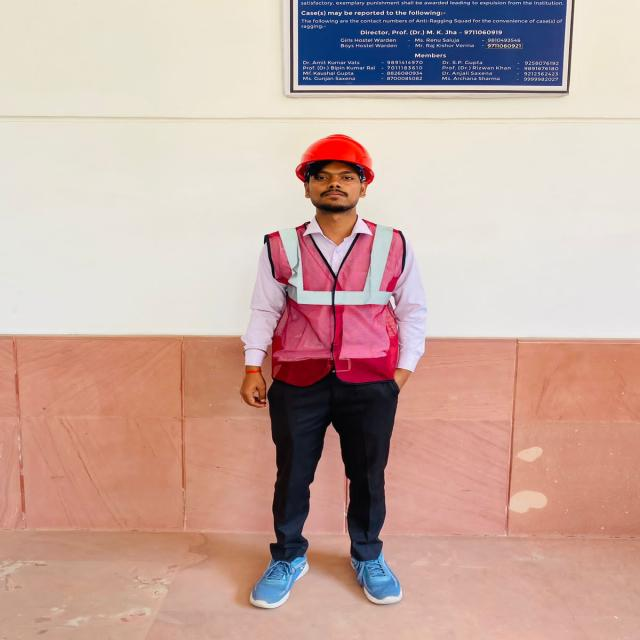safe: (240, 134, 424, 605)
